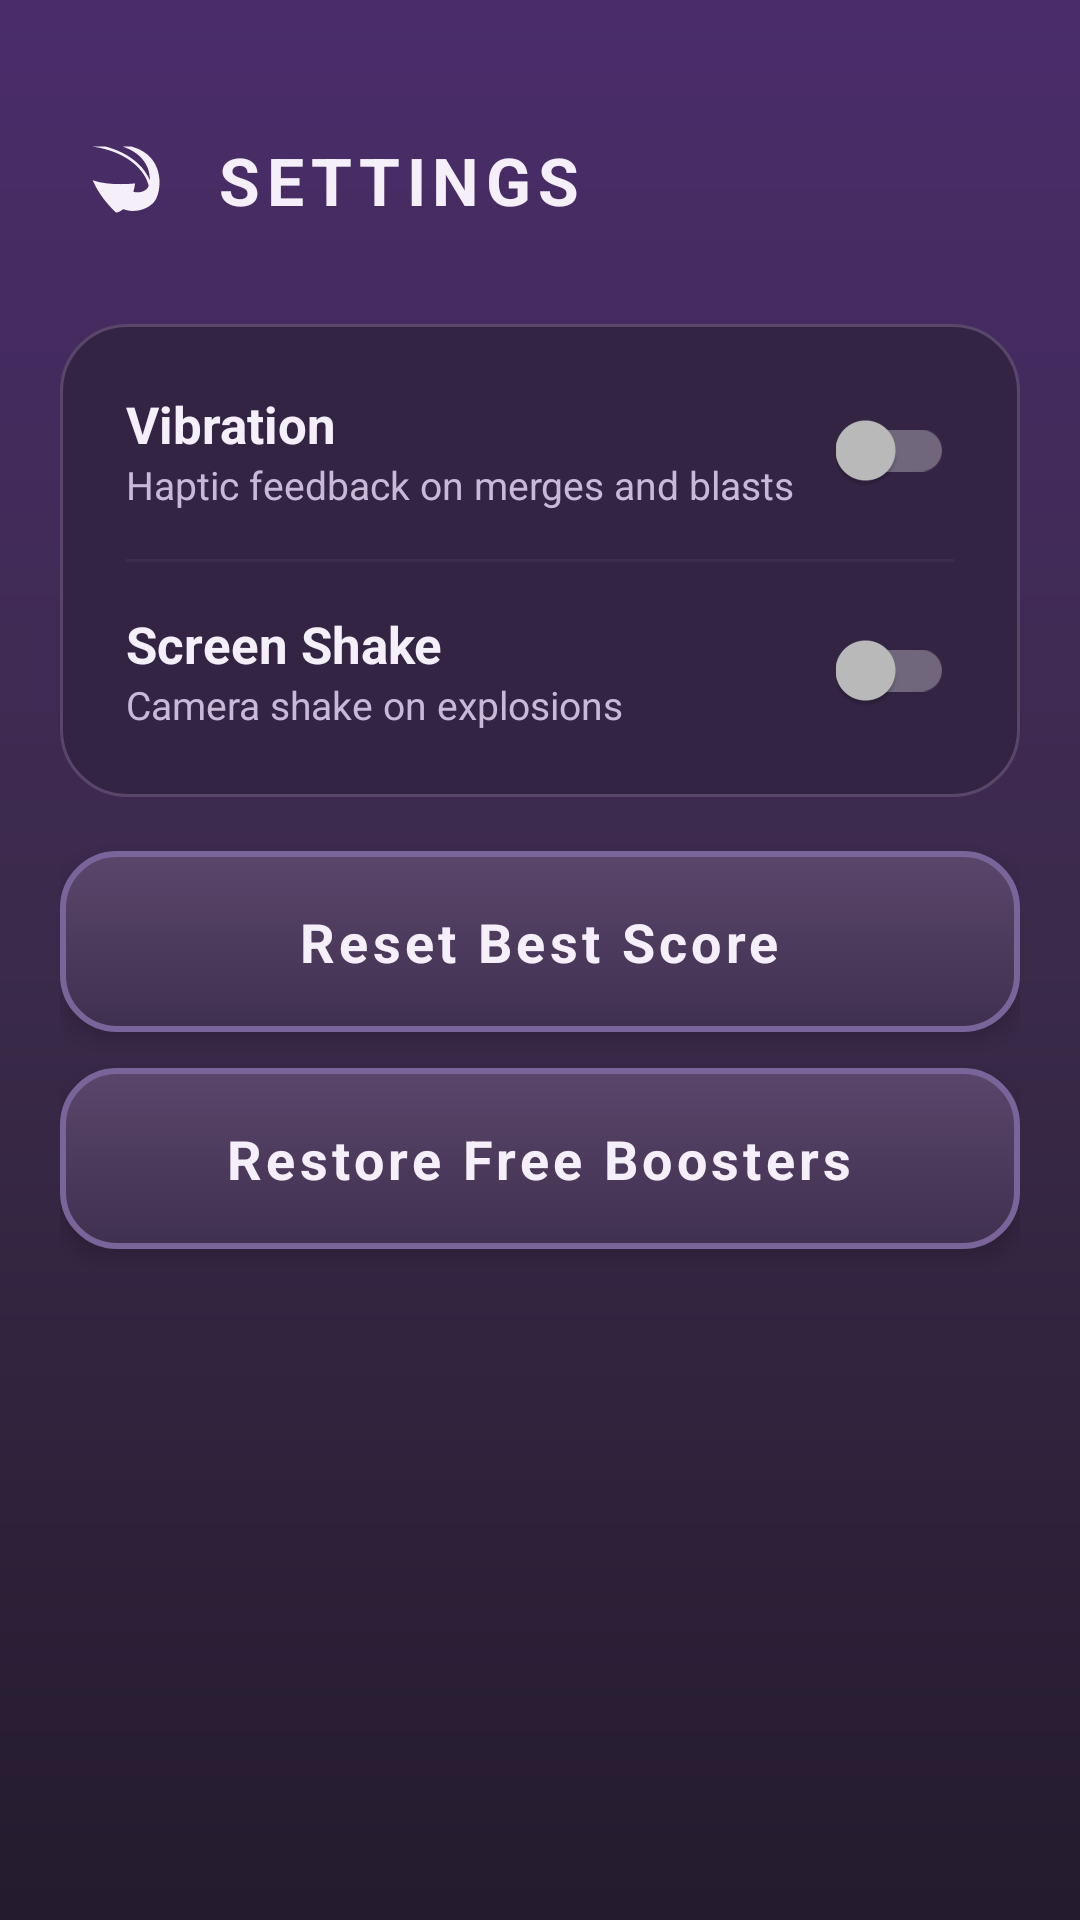

Screen size 1080px x 1920px. Icon name, then its box in pixels as (x1, y1, x2, y2):
BACK: (92, 146, 160, 213)
